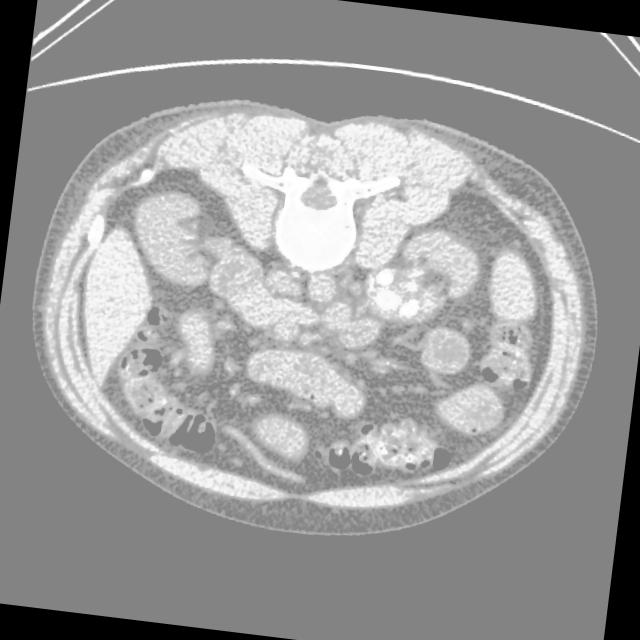STONE: (74, 235, 521, 541)
